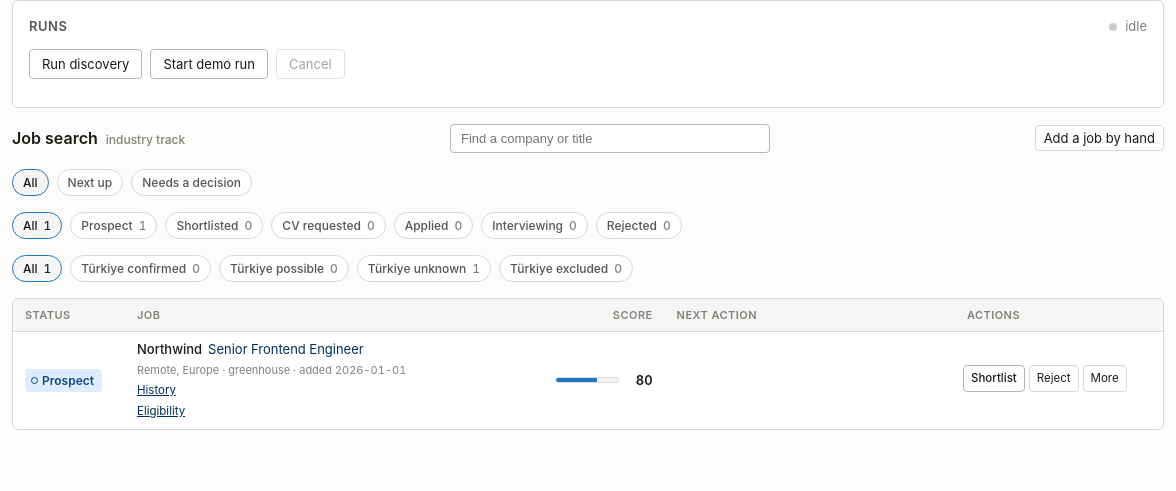
the other verbs are out of reach while a rejection reason is being typed
The image size is (1176, 491).
Click the button with aria-label "More actions".
click(1105, 378)  # box [1082,365,1127,392]
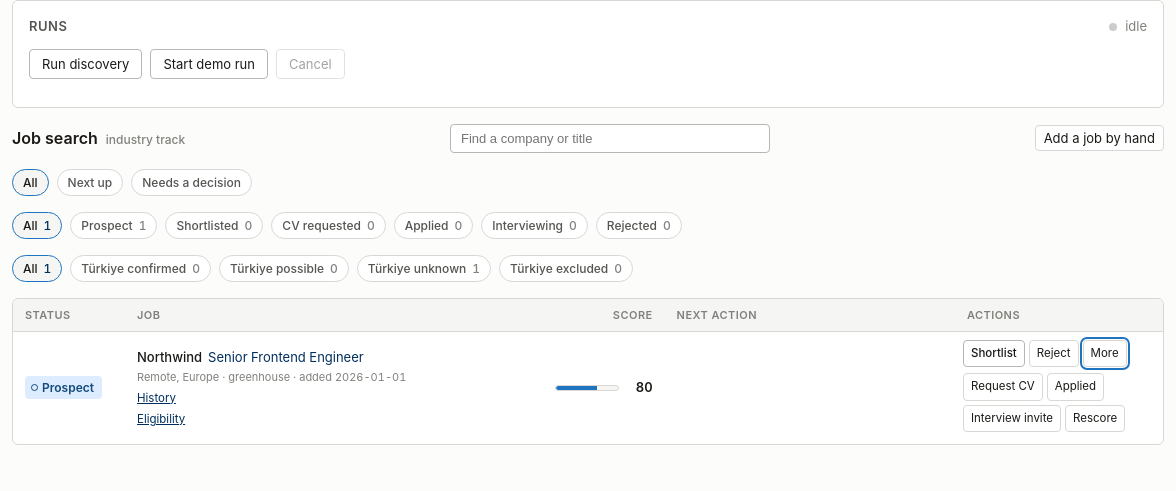
Expected: the button "Shortlist" is shown, [963,340,1025,367]
Expected: the button "Rescore" is shown, [1065,404,1125,432]
Click the button "Reject".
click(1054, 354)  # box [1029,340,1079,367]
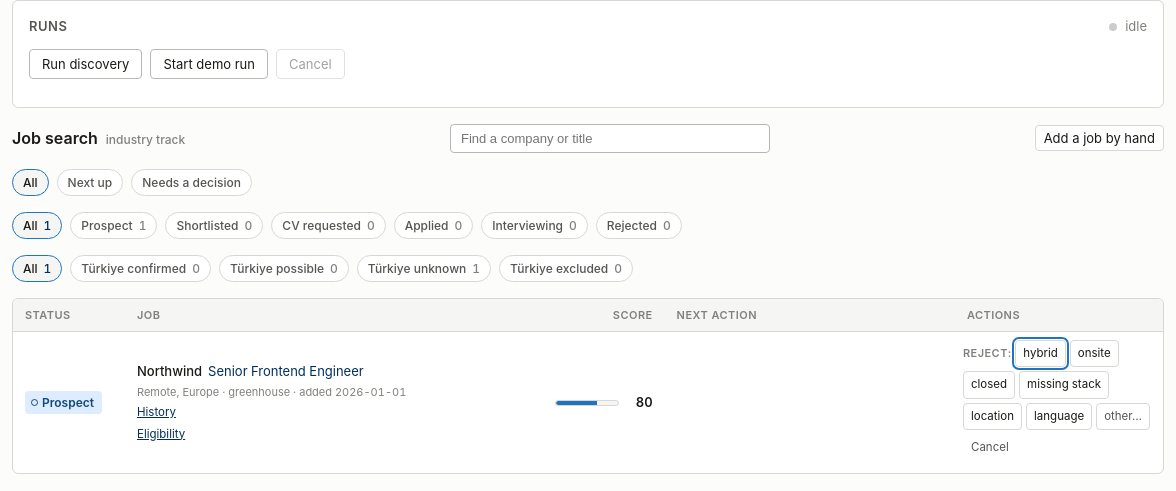
Expected: the button "Rescore" is gone
Click the button "Cancel" below "Next action".
click(990, 447)  # box [963,434,1017,461]
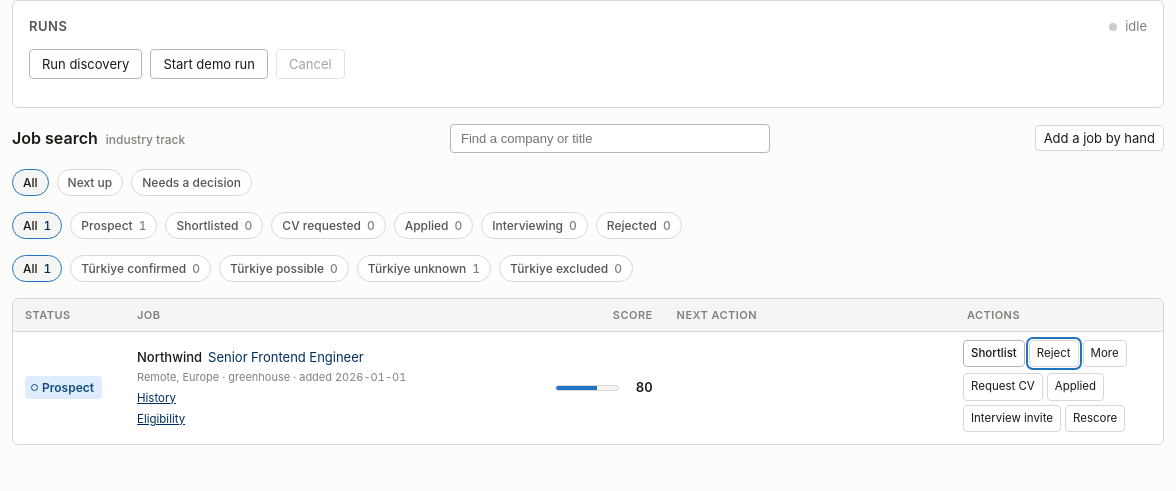
Expected: the button "Shortlist" is shown, [963,340,1025,367]
Expected: the button "Rescore" is shown, [1065,404,1125,432]
